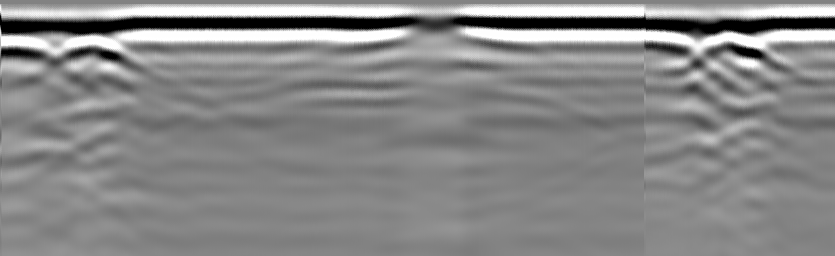pipe: (389, 13, 487, 46)
steel: (51, 33, 142, 75)
